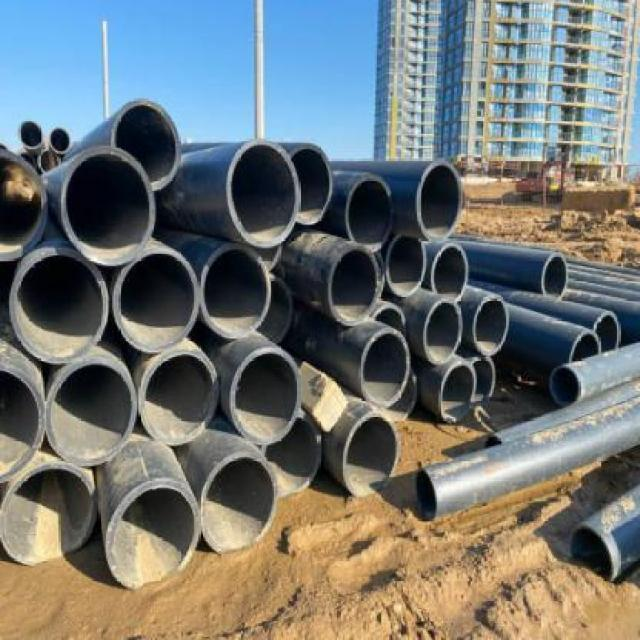pipe: (59, 146, 156, 266), (10, 249, 110, 365), (105, 479, 201, 590), (0, 462, 98, 565), (46, 358, 139, 466), (113, 249, 199, 354), (227, 139, 301, 248), (200, 452, 277, 554), (138, 350, 219, 446), (231, 348, 302, 444), (200, 244, 271, 339), (110, 98, 181, 191), (0, 364, 46, 484), (0, 148, 48, 261), (343, 412, 399, 497), (327, 245, 380, 327), (359, 328, 410, 406), (415, 159, 463, 241), (345, 175, 394, 252), (289, 144, 334, 224), (569, 524, 617, 581), (423, 298, 463, 366), (385, 235, 427, 298), (439, 361, 476, 424), (473, 294, 510, 356), (432, 243, 469, 303), (541, 252, 569, 300), (471, 355, 496, 408), (415, 467, 437, 521), (593, 311, 621, 353), (551, 366, 580, 406), (569, 330, 600, 363)
